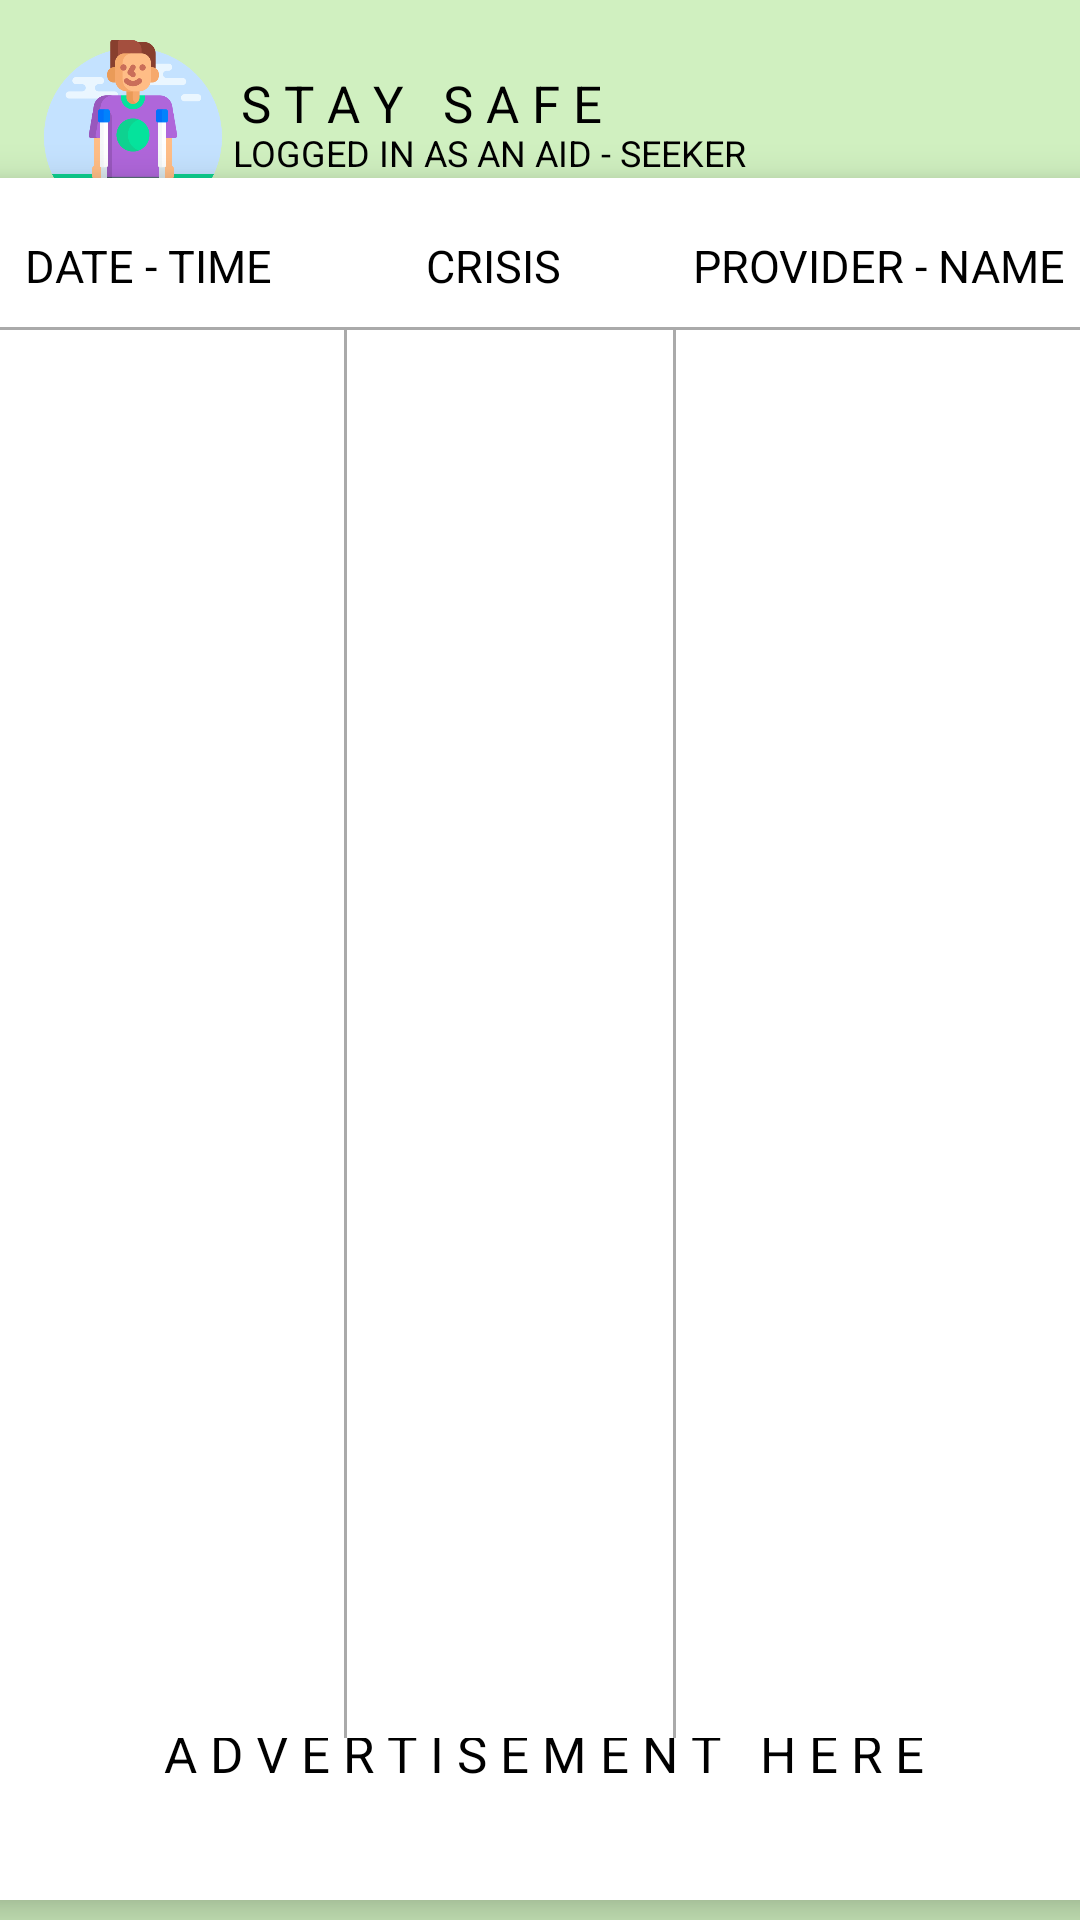

Icons on this 1080w x 1920h Android screen, each with its box as [left=x1, top=y1, right=x2, bottom=y2]:
amputee: [left=40, top=40, right=226, bottom=226]
